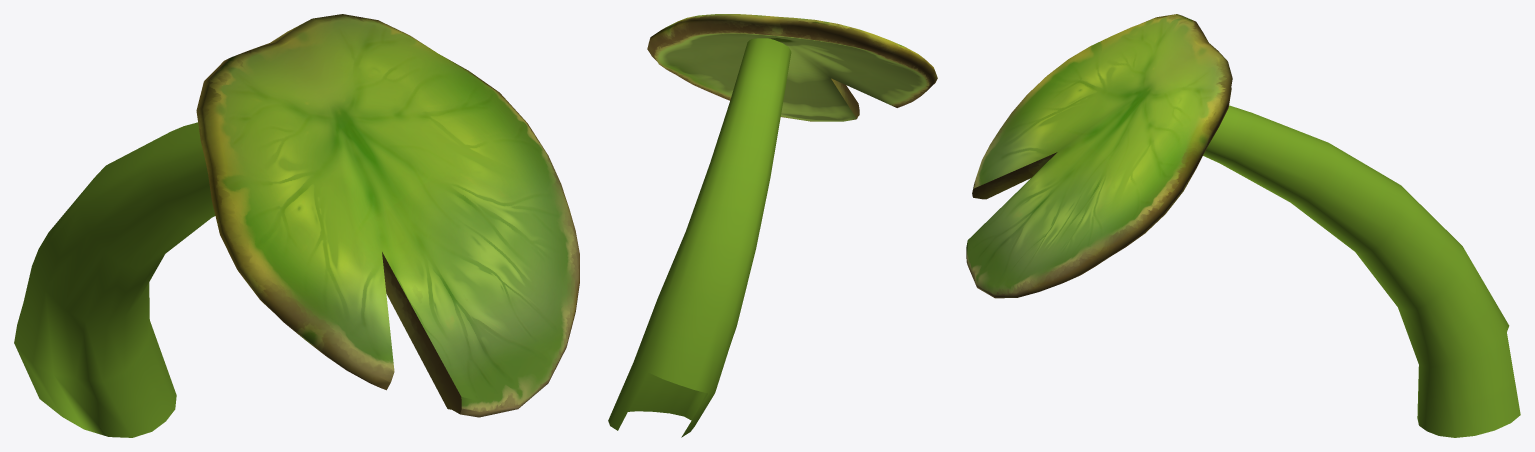
File: LeafPlatform_mini_2.fbx
The picture shows the model from 3 angles, left to right: view 1: azimuth 30°, elevation 25°; view 2: azimuth 150°, elevation 25°; view 3: azimuth 270°, elevation 25°; orthographic projection. The views are drawn at different scales.
Parts seen in each view (by area): view 1: Object006; view 2: Object006; view 3: Object006.
Part boxes in pixels (bbox=[...]): Object006: bbox=[14, 14, 579, 437]; Object006: bbox=[608, 14, 937, 437]; Object006: bbox=[966, 14, 1520, 437].
Size of the model in its own units: 1.85 by 2.39 by 3.16.
